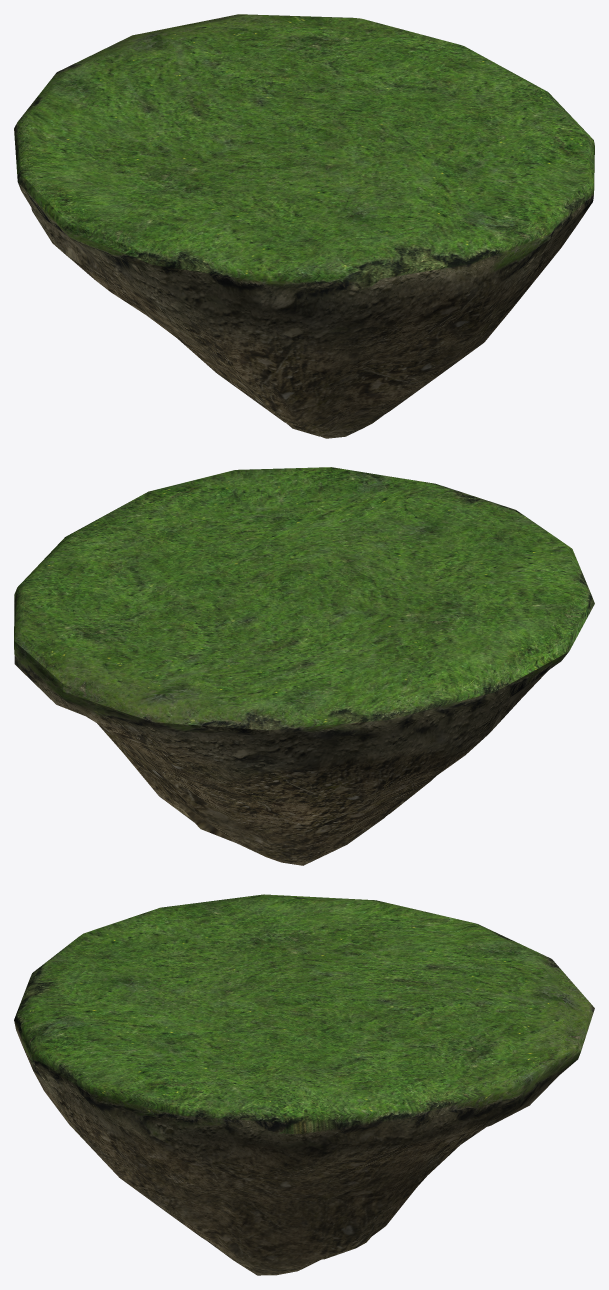
File: Island.obj
The picture shows the model from 3 angles, top to bottom: view 1: azimuth 30°, elevation 25°; view 2: azimuth 150°, elevation 25°; view 3: azimuth 270°, elevation 25°; orthographic projection. The views are drawn at different scales.
Parts seen in each view (by area): view 1: Island_Mesh; view 2: Island_Mesh; view 3: Island_Mesh.
Boxes of the visible parts, x1,y1,x2,y2 form: Island_Mesh: (14,14,594,438); Island_Mesh: (14,467,594,865); Island_Mesh: (14,894,594,1275).
Size of the model in its own units: 171 by 95.96 by 188.
1 material, 1 textured.
